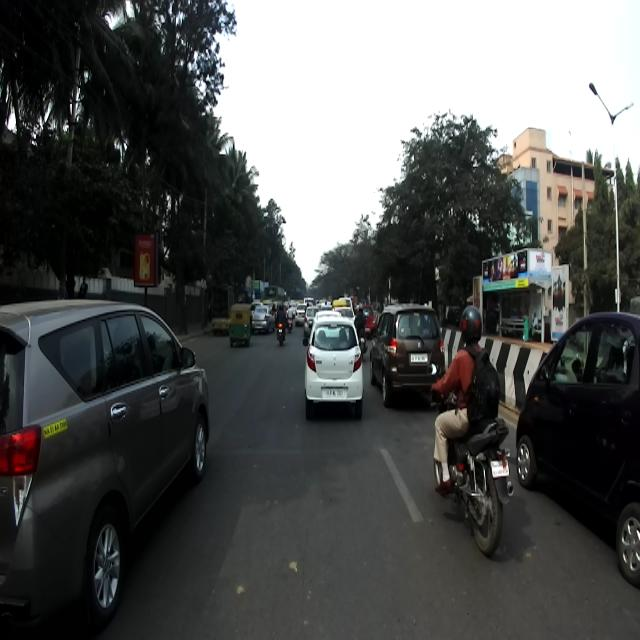car ahead at: (0, 285, 212, 618), (516, 315, 640, 569), (372, 306, 447, 413), (304, 310, 368, 426)
motorcycle ahead at: (433, 413, 511, 555)
